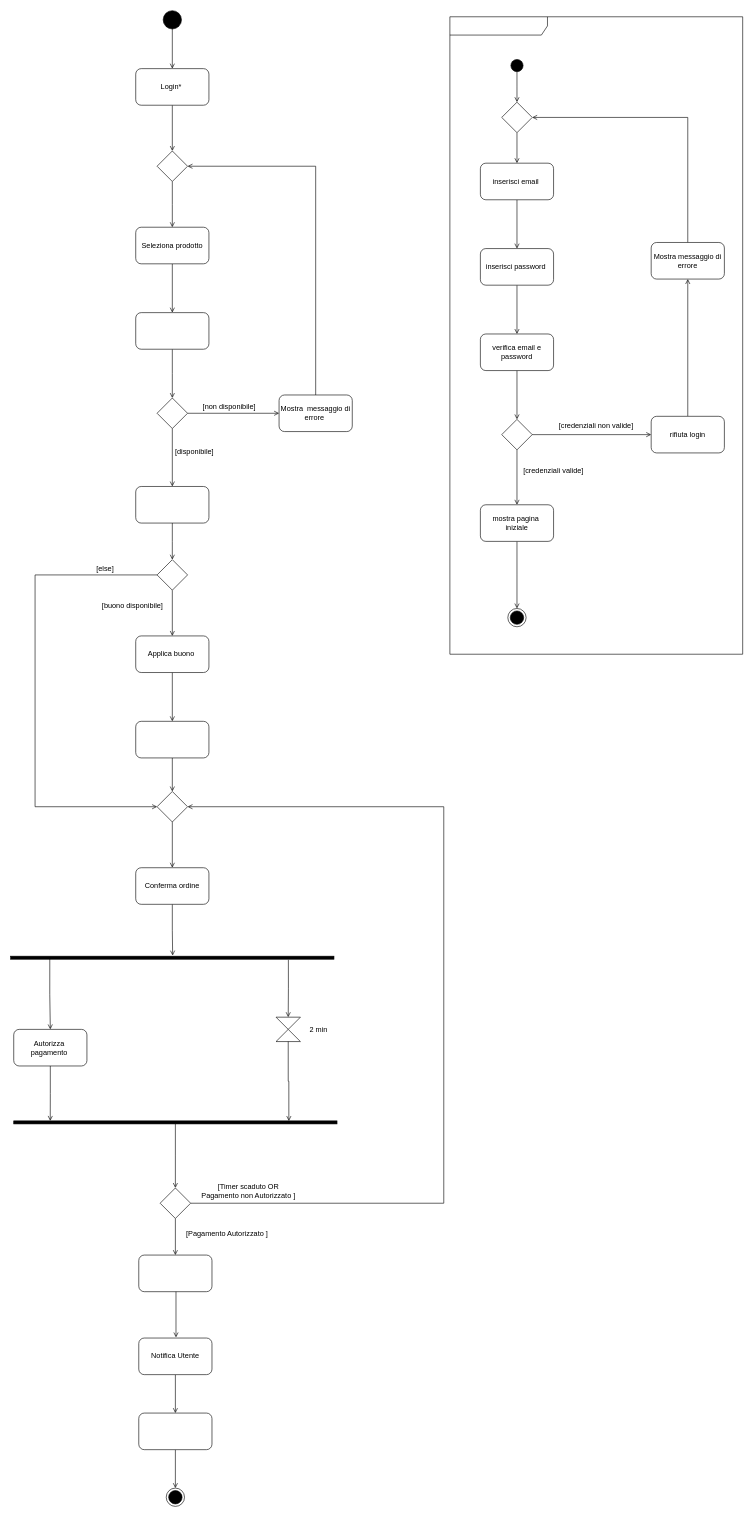
Image size: 753x1517. Some labels were removed from this diagram. Here are the shapes that lost their labels. From the top down, the box of each, then its label:
(135, 312, 209, 349): Verifica disponibilità
(449, 16, 743, 654): Login
(135, 486, 209, 523): Calcola totale
(135, 721, 209, 758): aggiorna Totale
(138, 1254, 212, 1292): Registra ordine
(138, 1412, 212, 1450): Notifica Venditore
